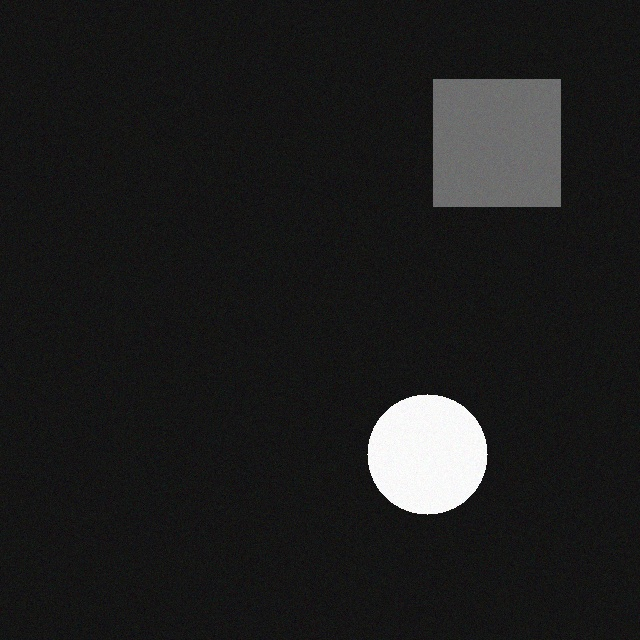circle: (378, 381, 498, 501)
square: (444, 66, 571, 193)
